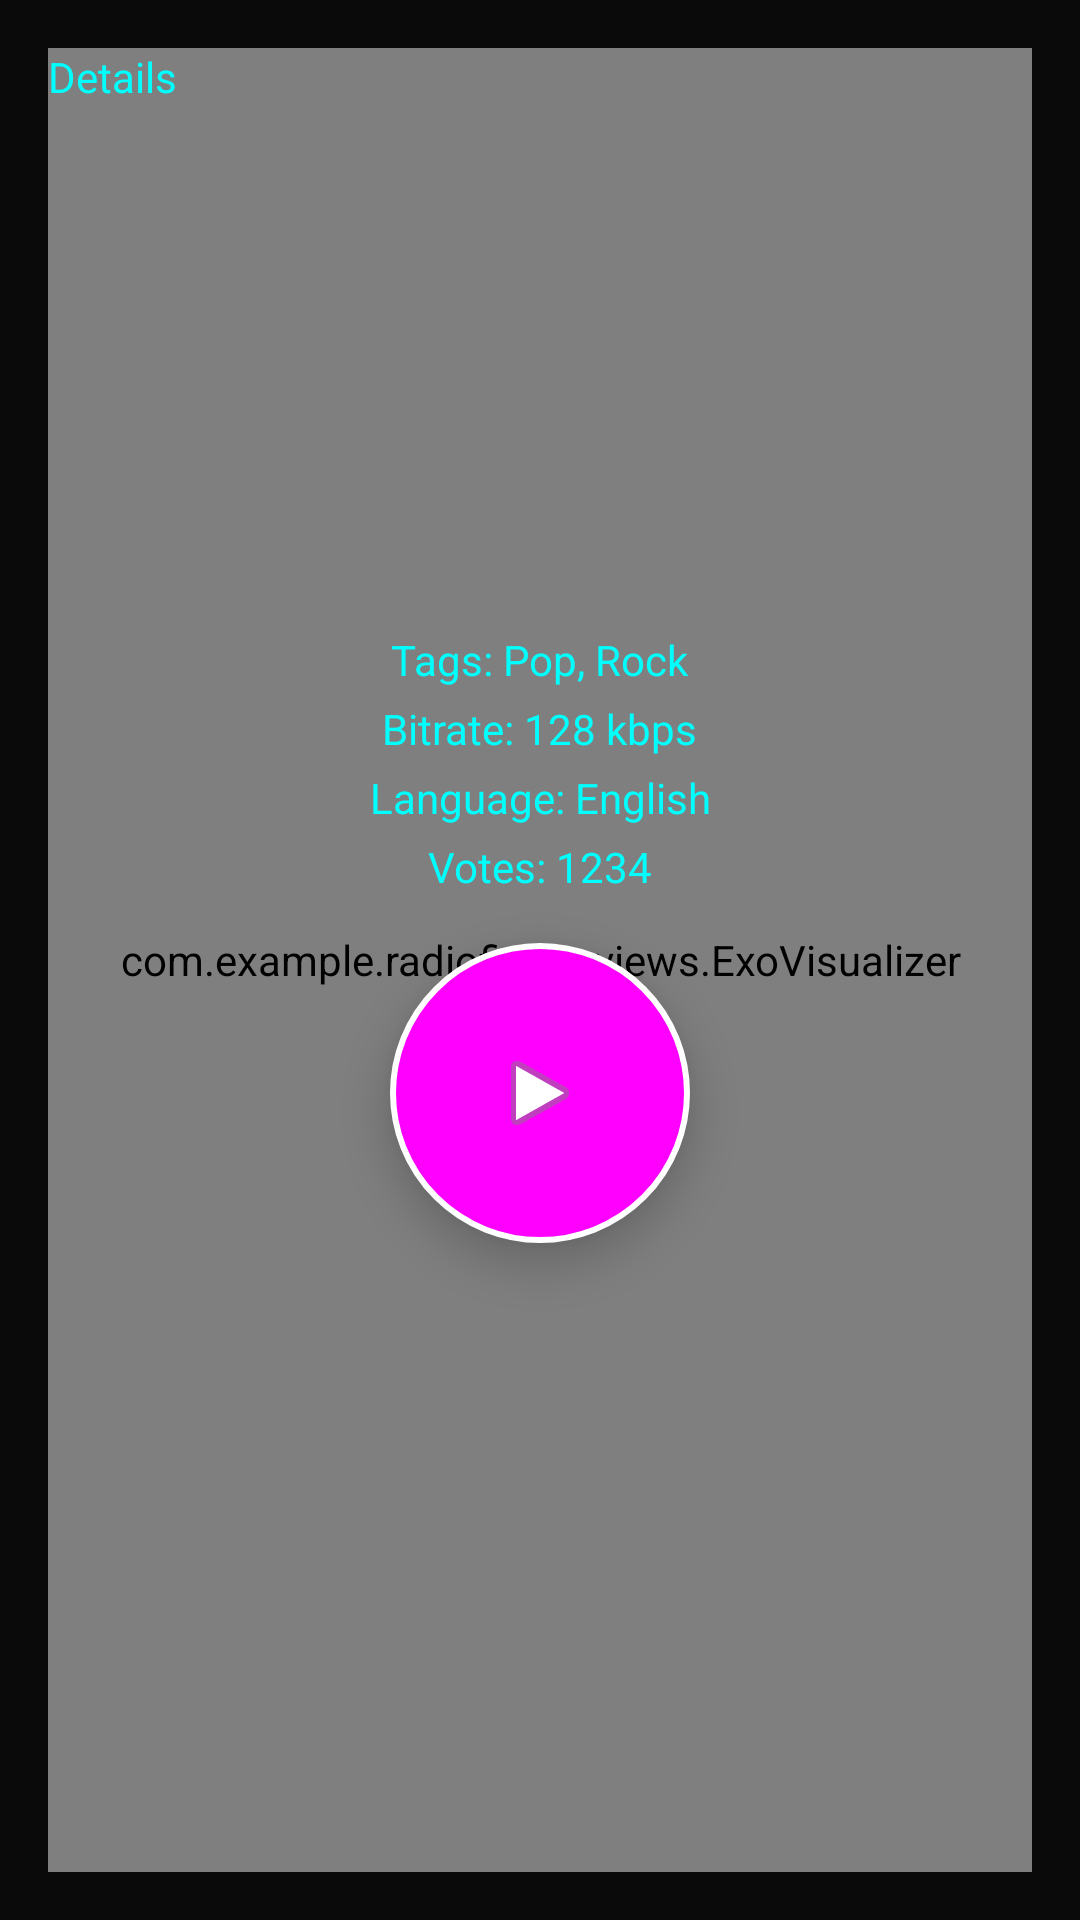

Locate icon controls on the screen. Image size 1080x1920, boxes as (x1, y1, x2, y2).
play: (390, 943, 690, 1243)
